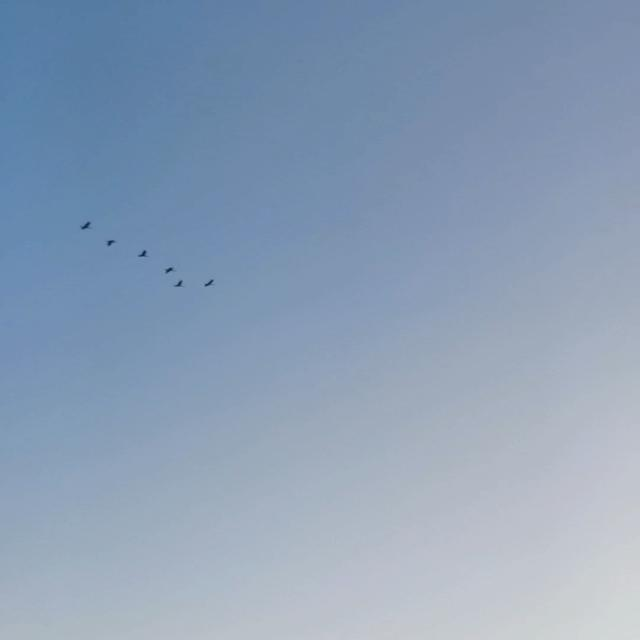bird: (76, 220, 95, 234), (200, 277, 216, 289), (170, 279, 187, 290), (134, 250, 152, 260), (161, 266, 176, 276), (104, 238, 118, 248)
